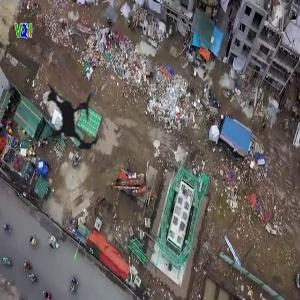drone: (14, 57, 135, 178)
